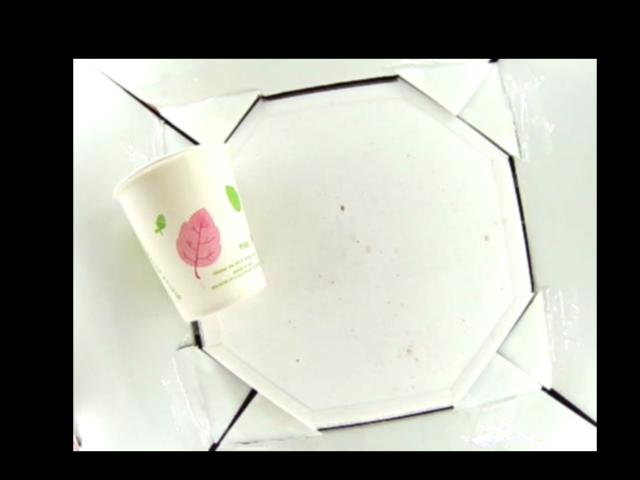Cup: (110, 142, 265, 322)
